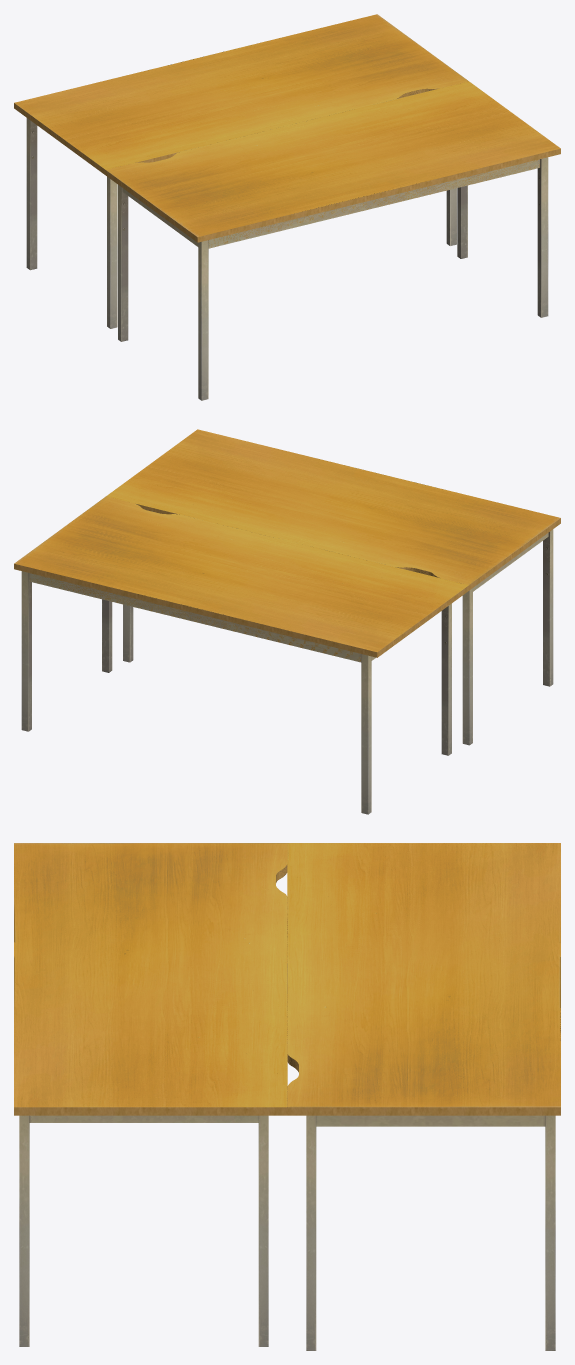
File: desk_byTV.dae
The picture shows the model from 3 angles, top to bottom: view 1: azimuth 30°, elevation 25°; view 2: azimuth 150°, elevation 25°; view 3: azimuth 270°, elevation 25°; orthographic projection. The views are drawn at different scales.
Parts seen in each view (by area): view 1: コンポーネント_3 (×5), コンポーネント_2 (×9); view 2: コンポーネント_3 (×5), コンポーネント_2 (×9); view 3: コンポーネント_3 (×6), コンポーネント_2 (×4).
Boxes of the visible parts, box(x1,y1,x2,y2) form: コンポーネント_3 (×5): box(14, 14, 560, 248); コンポーネント_2 (×9): box(26, 118, 548, 400); コンポーネント_3 (×5): box(14, 429, 560, 662); コンポーネント_2 (×9): box(21, 529, 553, 814); コンポーネント_3 (×6): box(14, 843, 560, 1126); コンポーネント_2 (×4): box(19, 1115, 555, 1350).
Size of the model in its own units: 62.99 by 55.12 by 27.55.
Materials: 8 (6 with a texture image).
